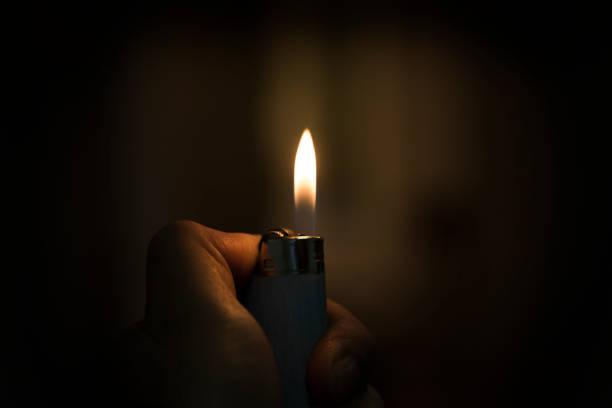Fire: (291, 124, 320, 232)
